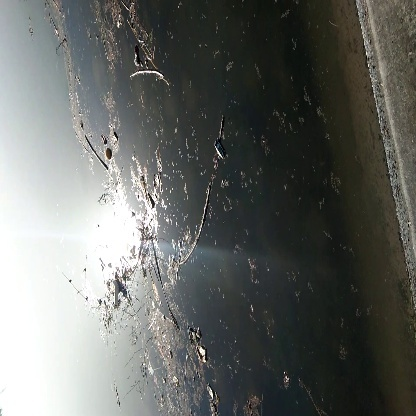branch: (170, 185, 222, 268)
